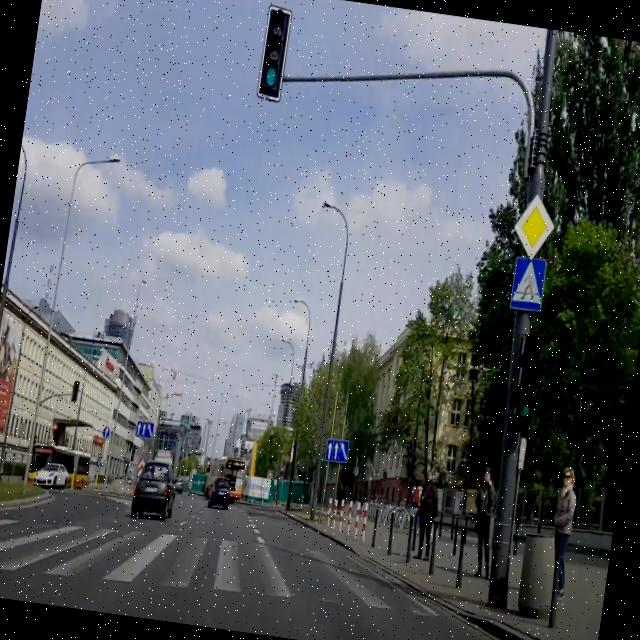Droga z pierwszenstwem: (510, 190, 560, 260)
Przejscie dla pieszych: (508, 256, 548, 314)
